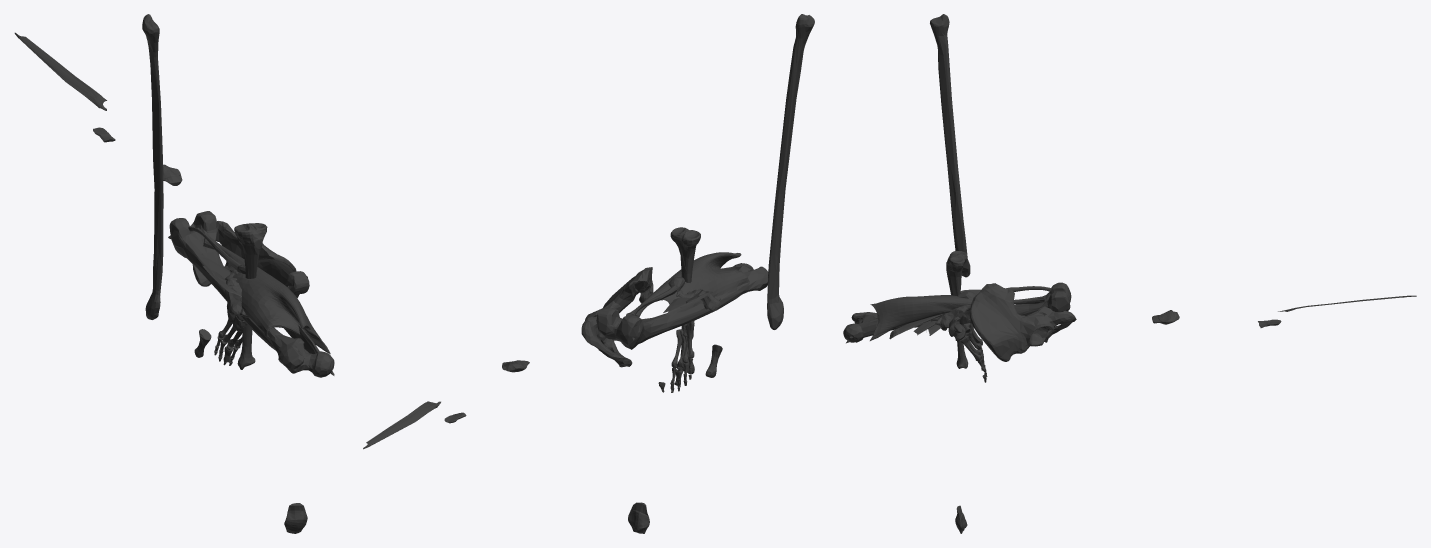
File: sharedassets24.glb
3 renders of one model, left to right at view 1: azimuth 30°, elevation 25°; view 2: azimuth 150°, elevation 25°; view 3: azimuth 270°, elevation 25°, orthographic. The views are drawn at different scales.
Parts seen in each view (by area): view 1: 0040_Adductor magnus, R__100021, 0073_Femur _thigh_, L_male_000854, 0028_Fibula _leg_, R__000928, 0072_Fibula _leg_, L__000922, 0000_Femur _thigh_, R__000930, 0027_Tibia _leg_, R__000925, 0029_Interosseous membrane of the leg _middle, 0071_Tibia _leg_, L__000923, 0037_Ilium, R__001012, 0042_Gracilis, R__1000197, 0033_S01-05 Sacrum__001242, 0030_Patella _knee cap_, R__000927 (+2 smaller); view 2: 0028_Fibula _leg_, R__000928, 0040_Adductor magnus, R__100021, 0000_Femur _thigh_, R__000930, 0073_Femur _thigh_, L_male_000854, 0037_Ilium, R__001012, 0029_Interosseous membrane of the leg _middle, 0027_Tibia _leg_, R__000925, 0071_Tibia _leg_, L__000923, 0035_Ischium, R__001010, 0030_Patella _knee cap_, R__000927; view 3: 0037_Ilium, R__001012, 0040_Adductor magnus, R__100021, 0072_Fibula _leg_, L__000922, 0000_Femur _thigh_, R__000930, 0077_Ilium, L_male_001003, 0028_Fibula _leg_, R__000928, 0027_Tibia _leg_, R__000925, 0035_Ischium, R__001010.
Boxes of the visible parts, bbox=[...] form: 0040_Adductor magnus, R__100021: bbox=[203, 233, 330, 354]; 0073_Femur _thigh_, L_male_000854: bbox=[169, 215, 334, 377]; 0028_Fibula _leg_, R__000928: bbox=[142, 14, 159, 319]; 0072_Fibula _leg_, L__000922: bbox=[145, 14, 163, 319]; 0000_Femur _thigh_, R__000930: bbox=[170, 211, 334, 368]; 0027_Tibia _leg_, R__000925: bbox=[234, 223, 266, 367]; 0029_Interosseous membrane of the leg _middle: bbox=[14, 32, 106, 110]; 0071_Tibia _leg_, L__000923: bbox=[234, 227, 267, 369]; 0037_Ilium, R__001012: bbox=[232, 237, 295, 283]; 0042_Gracilis, R__1000197: bbox=[168, 227, 334, 375]; 0033_S01-05 Sacrum__001242: bbox=[225, 269, 248, 317]; 0030_Patella _knee cap_, R__000927: bbox=[284, 503, 307, 533]; 0028_Fibula _leg_, R__000928: bbox=[767, 14, 814, 329]; 0040_Adductor magnus, R__100021: bbox=[626, 252, 749, 317]; 0000_Femur _thigh_, R__000930: bbox=[596, 263, 768, 349]; 0073_Femur _thigh_, L_male_000854: bbox=[609, 266, 768, 349]; 0037_Ilium, R__001012: bbox=[597, 267, 652, 336]; 0029_Interosseous membrane of the leg _middle: bbox=[363, 401, 440, 449]; 0027_Tibia _leg_, R__000925: bbox=[670, 227, 700, 373]; 0071_Tibia _leg_, L__000923: bbox=[671, 230, 700, 373]; 0035_Ischium, R__001010: bbox=[581, 309, 614, 356]; 0030_Patella _knee cap_, R__000927: bbox=[628, 502, 649, 533]; 0037_Ilium, R__001012: bbox=[970, 283, 1036, 360]; 0040_Adductor magnus, R__100021: bbox=[870, 295, 1044, 340]; 0072_Fibula _leg_, L__000922: bbox=[930, 14, 969, 277]; 0000_Femur _thigh_, R__000930: bbox=[845, 282, 1071, 342]; 0077_Ilium, L_male_001003: bbox=[969, 283, 1036, 361]; 0028_Fibula _leg_, R__000928: bbox=[942, 14, 970, 276]; 0027_Tibia _leg_, R__000925: bbox=[946, 251, 968, 367]; 0035_Ischium, R__001010: bbox=[1031, 306, 1076, 330].
Size of the model in its own units: 0.1862 by 0.5473 by 0.624.
Materials: 1 (1 with a texture image).
